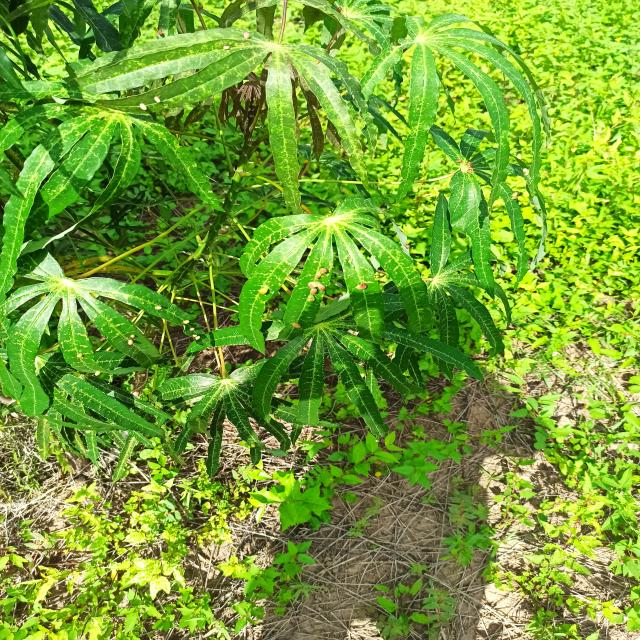Maleza: (538, 4, 640, 390), (83, 505, 246, 640), (233, 467, 360, 582)
Mosca: (299, 275, 326, 306), (352, 275, 380, 304), (254, 280, 280, 307), (176, 318, 201, 344), (450, 155, 476, 179), (142, 298, 168, 321), (88, 367, 115, 388), (115, 331, 142, 351), (73, 349, 91, 370), (314, 262, 330, 280), (341, 252, 359, 268), (289, 320, 305, 334)
